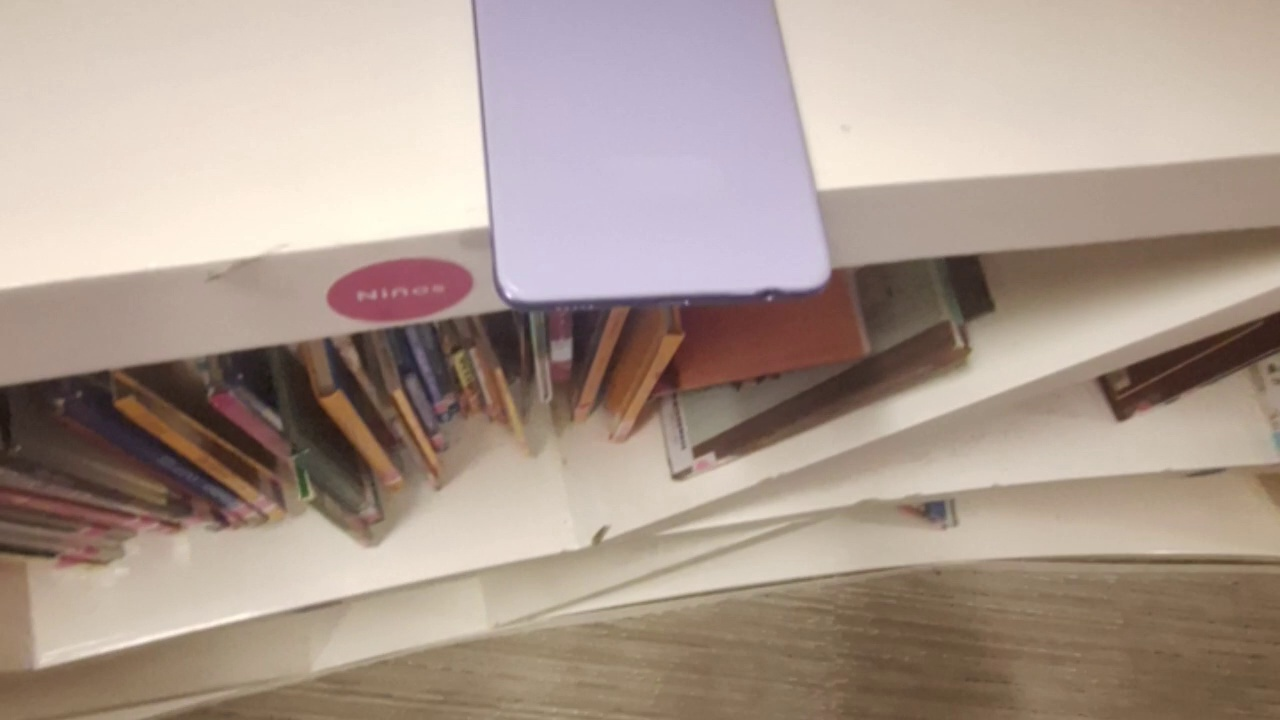celular: (467, 0, 833, 311)
